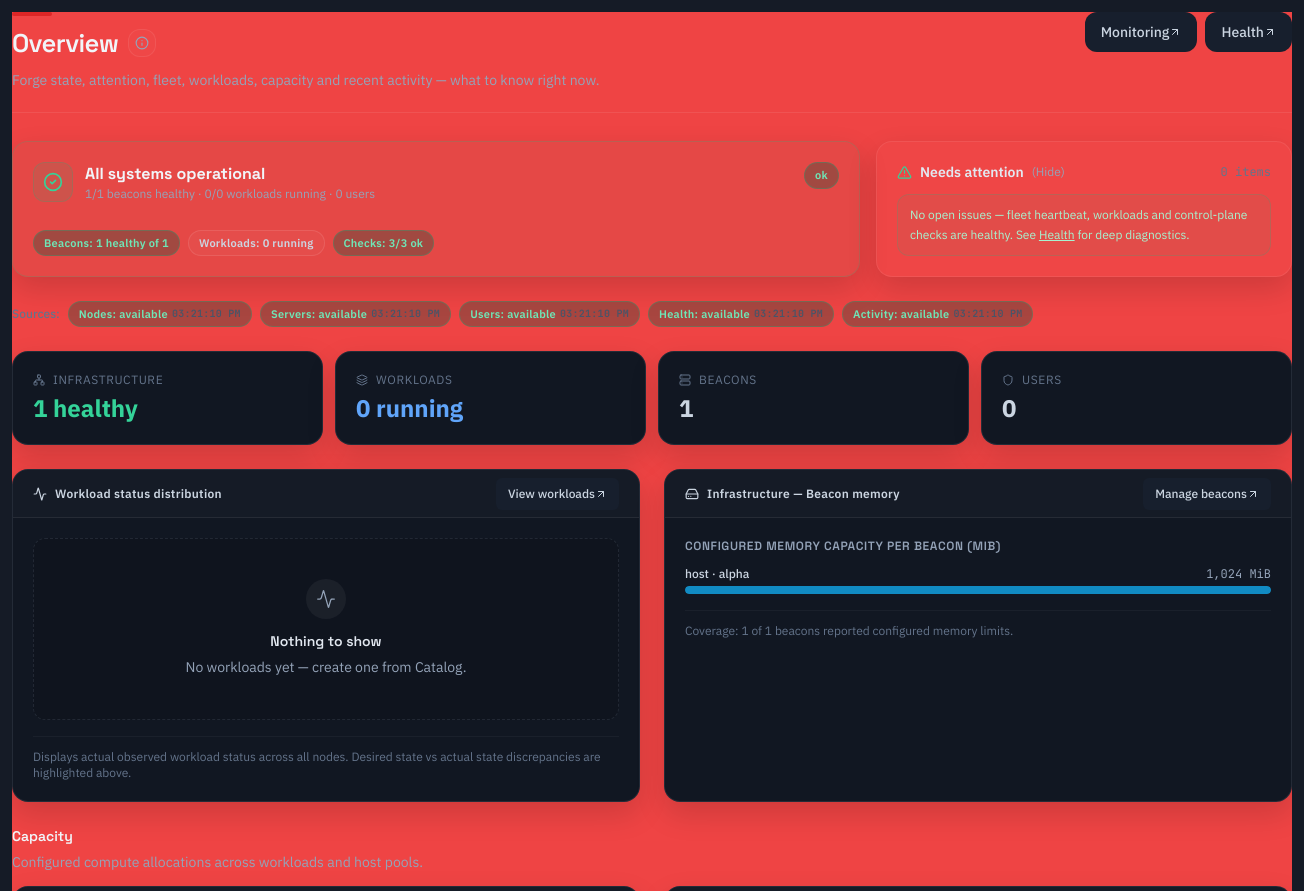
Test case: AdminOverview — mocked API › toggles the Needs attention section via Hide/Show
The image size is (1304, 891).
Expected: the text "(Hide)" is shown, [1032,164,1065,180]
Click the button "Needs attention (Hide)".
click(981, 172)  # box [897,162,1065,182]
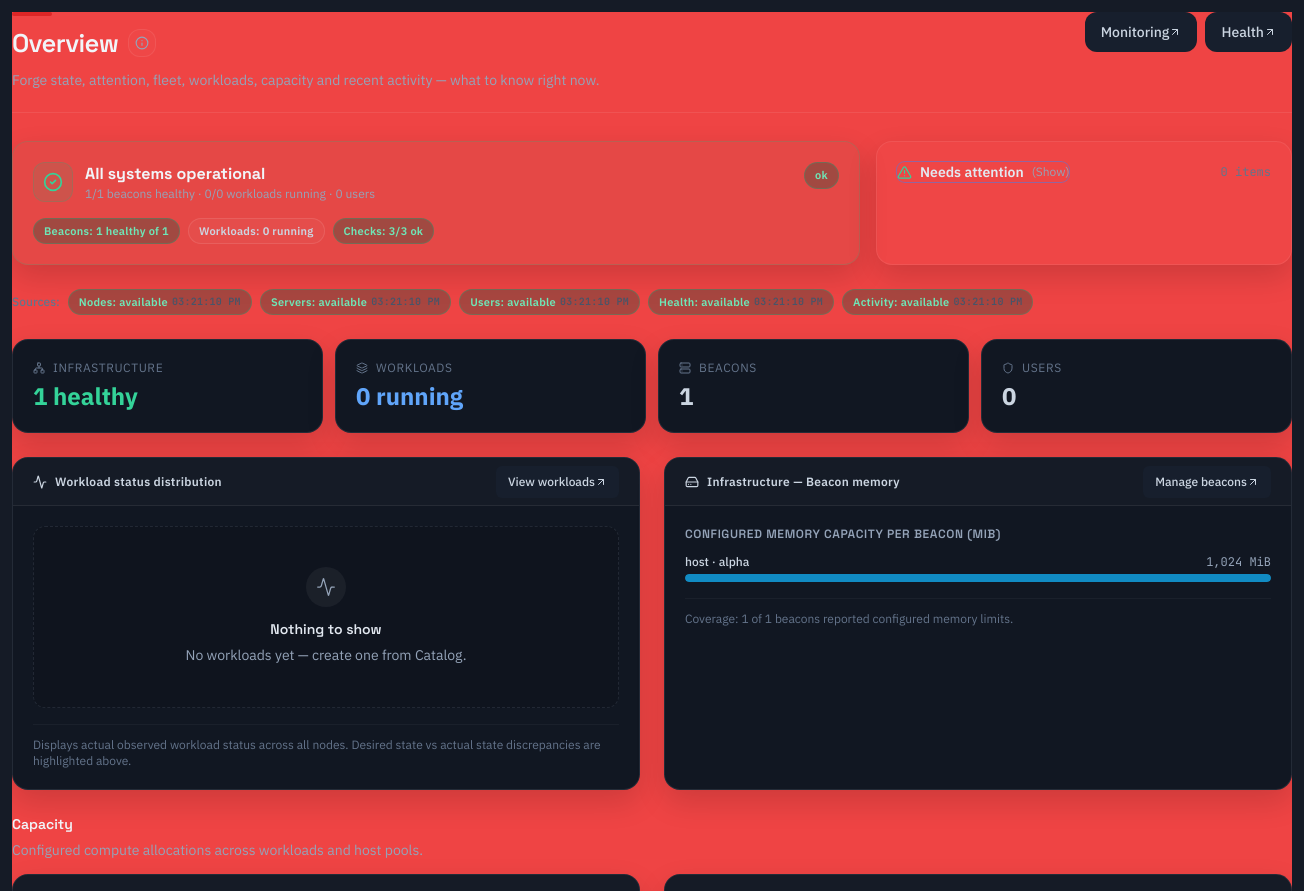
Expected: the text "(Show)" is shown, [1032,164,1069,180]
Expected: the text "No open issues" is gone
Click the button "Needs attention (Show)".
click(983, 172)  # box [897,162,1070,182]
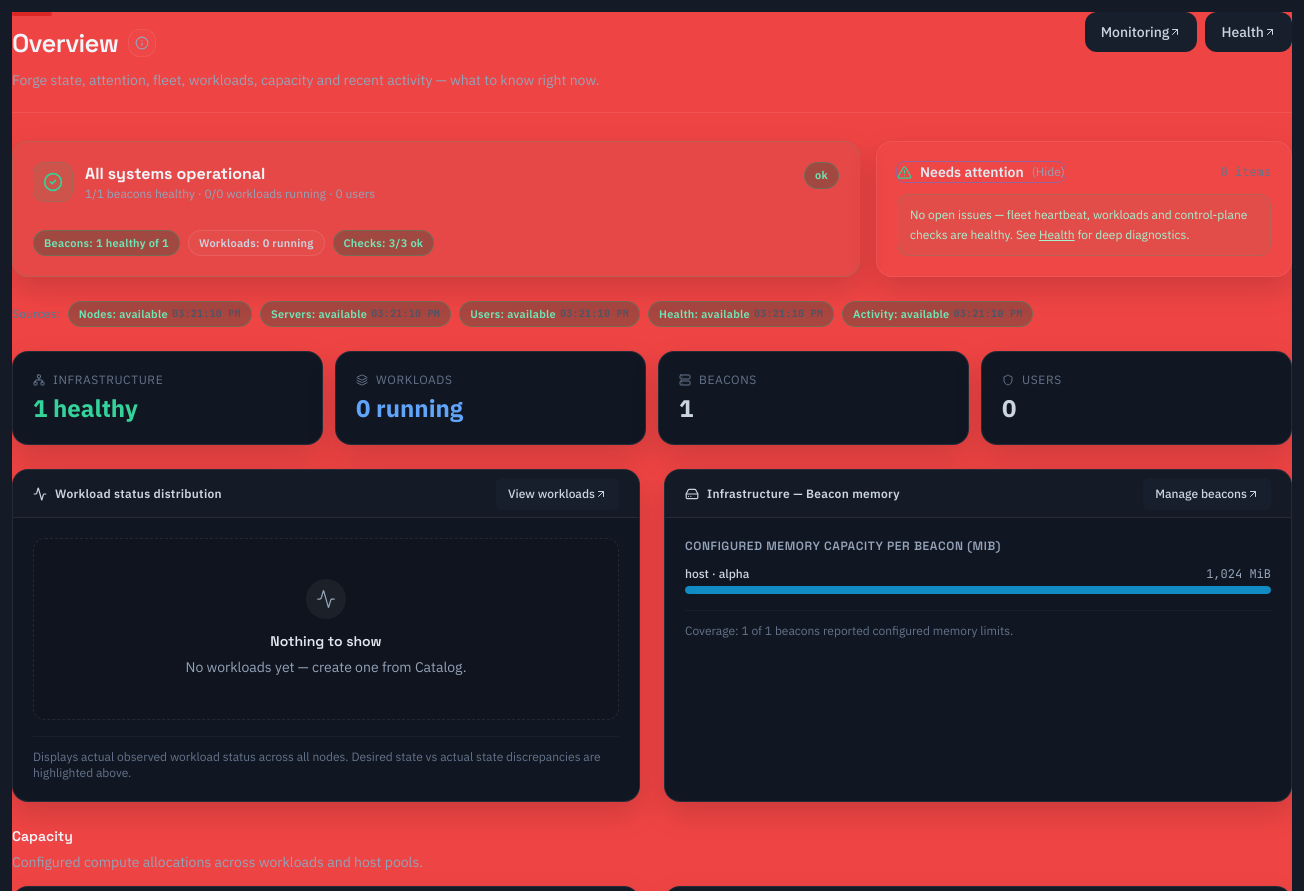
Expected: the text "No open issues" is shown, [910,207,1247,242]
